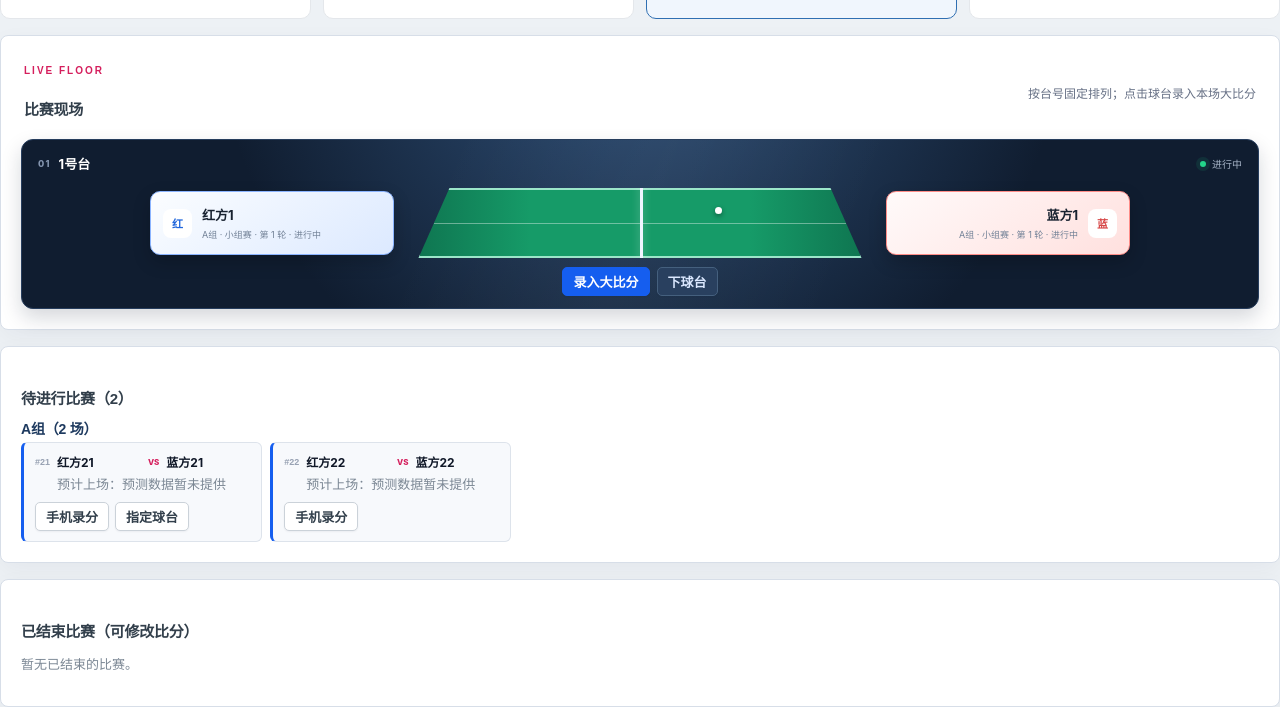
Test case: 现场问题 A：待进行比赛 → 指定球台（Match → Table） › 没有空闲球台时入口仍可见，但面板说明原因而不是给一个空列表
(page scrolled)
Click the button "指定球台" at (152, 516), box [115, 502, 189, 531]
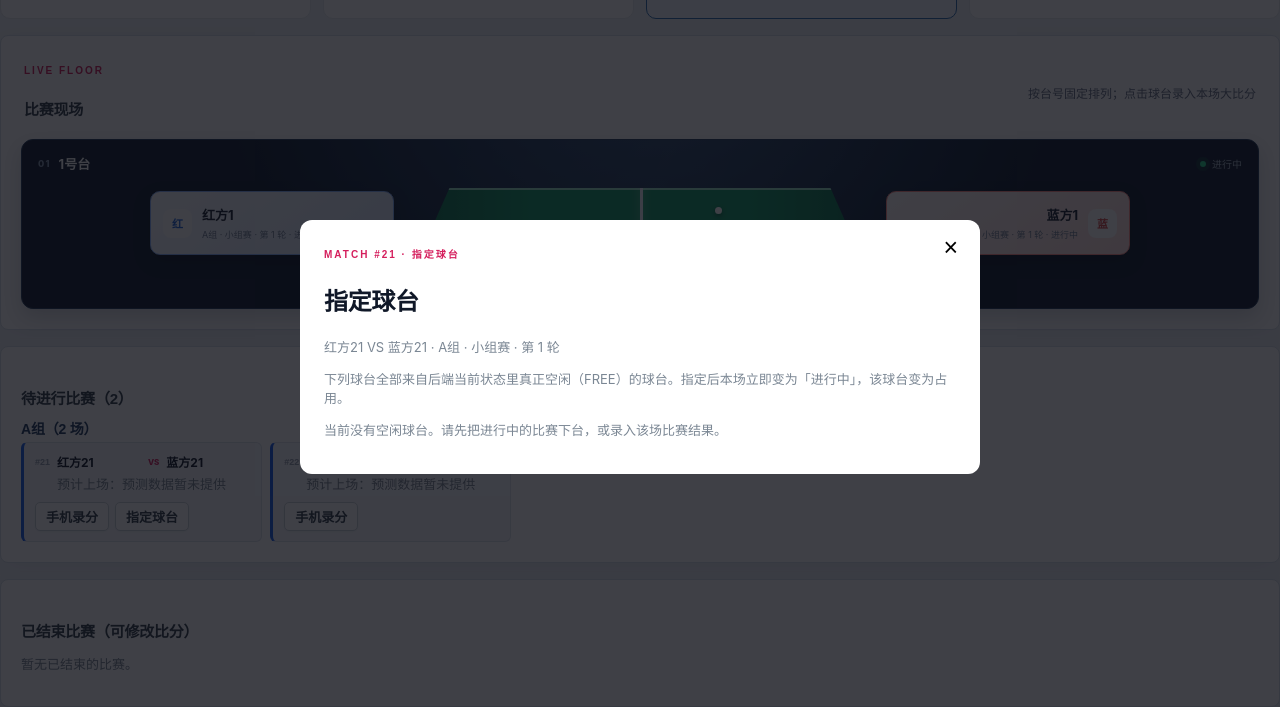
Result: the text "当前没有空闲球台。请先把进行中的比赛下台，或录入该场比赛结果。" is shown at [324, 422, 727, 438]
